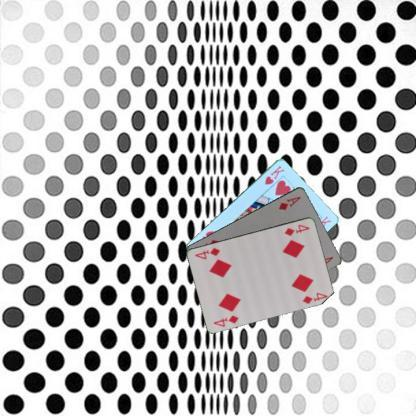4d: (282, 221, 311, 237), (211, 312, 240, 328)
Ad: (276, 194, 302, 212)
Kh: (262, 162, 286, 186)
